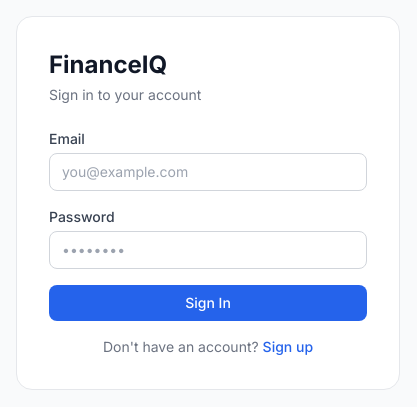
Scenario: LoginPage › toggles to sign-up mode when clicking Sign up
The image size is (417, 407).
Click the button "Sign up" at (288, 347), box x1=263 y1=337 x2=313 y2=357
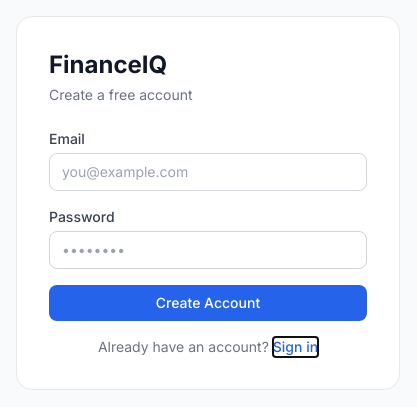
Now the text "Create a free account" is shown, box x1=49 y1=86 x2=193 y2=103
Now the button "Create Account" is shown, box x1=49 y1=285 x2=367 y2=321
